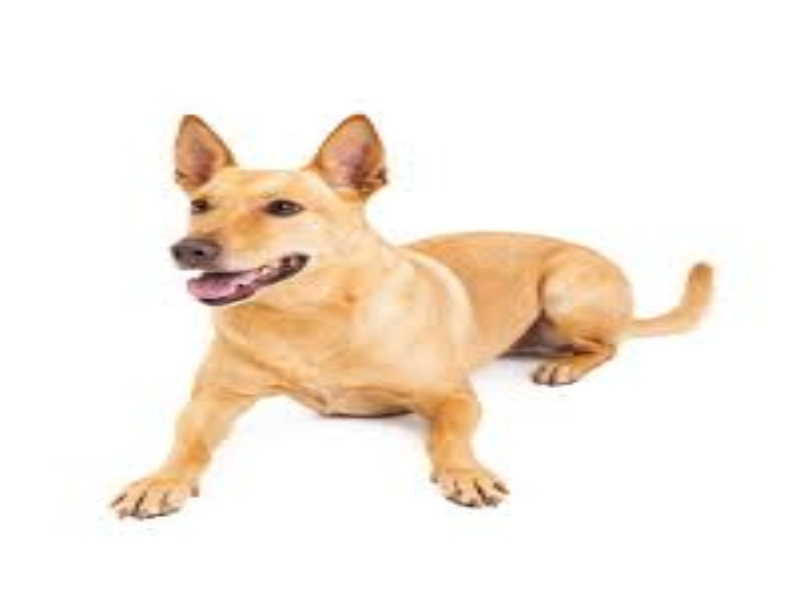dog: (103, 106, 726, 523)
